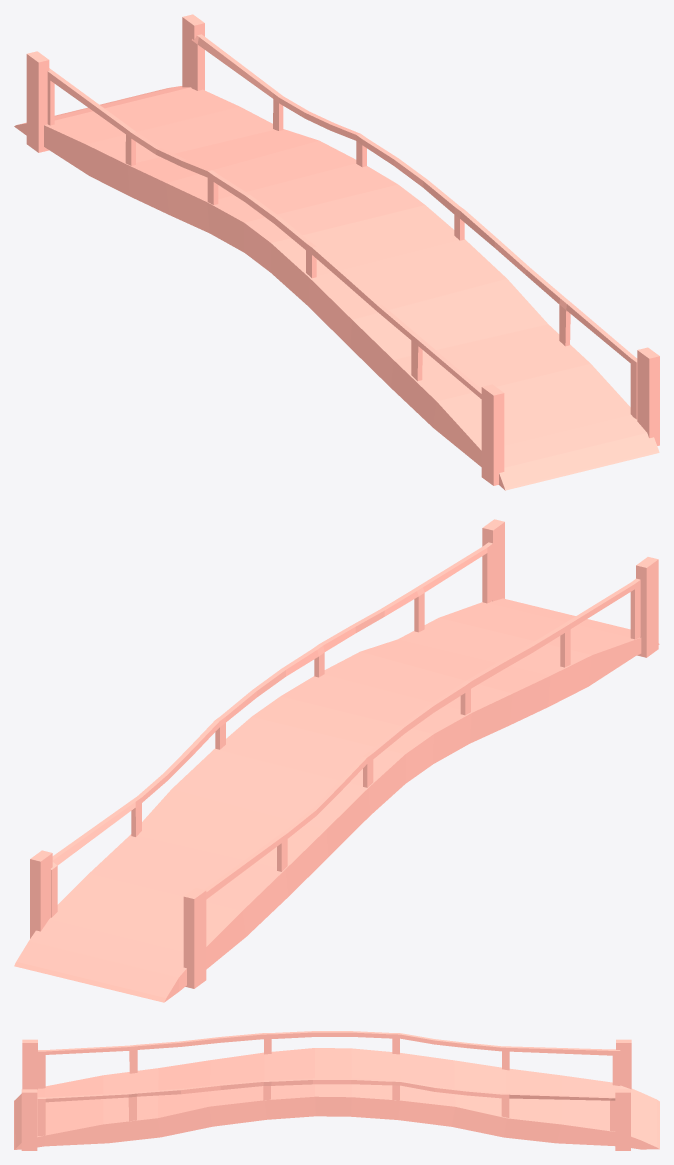
The model's file is PUENTE_PRUEBA.glb.
The picture shows the model from 3 angles, top to bottom: view 1: azimuth 30°, elevation 25°; view 2: azimuth 150°, elevation 25°; view 3: azimuth 270°, elevation 25°; orthographic projection. The views are drawn at different scales.
Visible parts, largest first — view 1: puente; view 2: puente; view 3: puente.
Boxes of the visible parts, left/top/right/bottom form: puente: left=14, top=14, right=659, bottom=490; puente: left=14, top=519, right=659, bottom=1002; puente: left=14, top=1031, right=659, bottom=1150.
Size of what is drawn, in the model's own units: 3.43 by 2.1 by 17.75.
